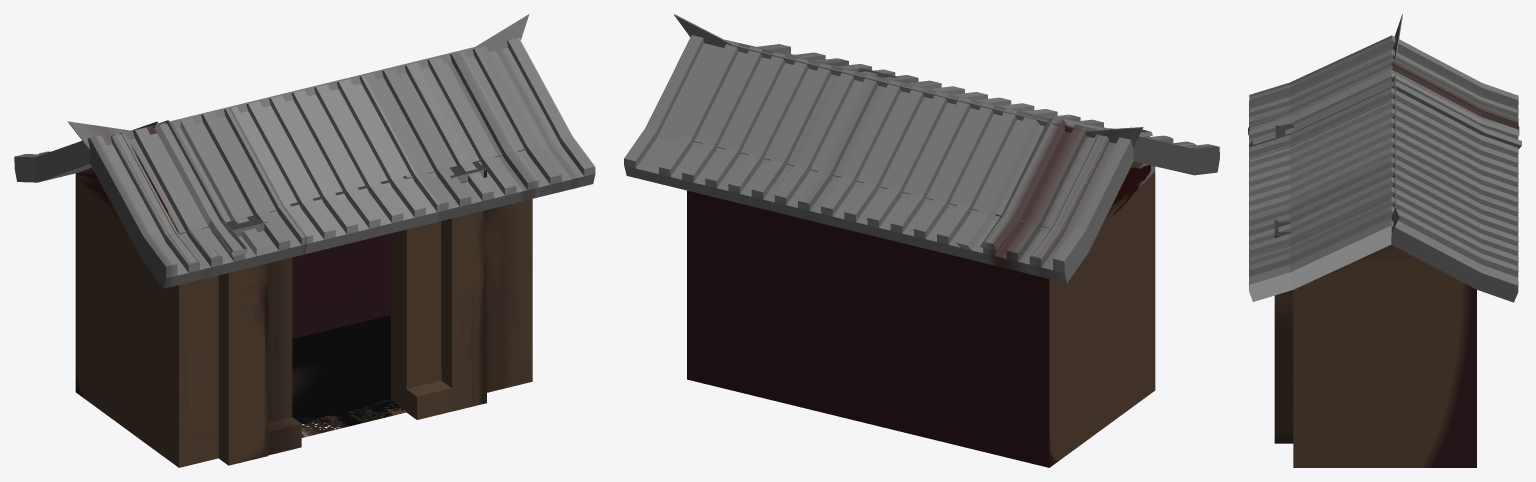
The model's file is Bar.fbx.
3 views of the same model, side by side, from view 1: azimuth 30°, elevation 25°; view 2: azimuth 150°, elevation 25°; view 3: azimuth 270°, elevation 25° (orthographic). The views are drawn at different scales.
Visible parts, largest first — view 1: Cube, roof, roof.001; view 2: Cube, roof, roof.001; view 3: roof, Cube, roof.001.
Boxes of the visible parts, x1=… form: Cube: x1=75, y1=139, x2=532, y2=467; roof: x1=14, y1=38, x2=595, y2=288; roof.001: x1=67, y1=14, x2=529, y2=149; Cube: x1=687, y1=68, x2=1155, y2=467; roof: x1=624, y1=35, x2=1219, y2=283; roof.001: x1=674, y1=14, x2=1143, y2=147; roof: x1=1248, y1=35, x2=1521, y2=302; Cube: x1=1274, y1=124, x2=1476, y2=467; roof.001: x1=1391, y1=14, x2=1402, y2=232.
Size of the model in its own units: 1049 by 687 by 609.
1 material, 1 textured.
